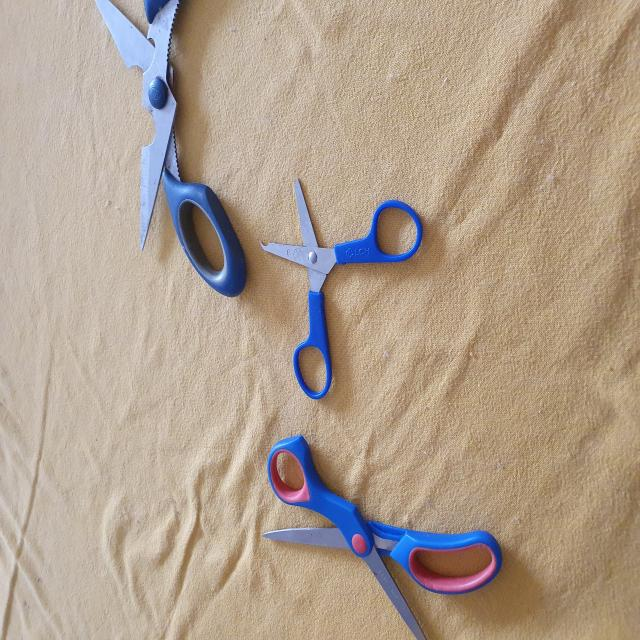scissors: (264, 430, 505, 640), (96, 0, 251, 297), (259, 176, 430, 404)
